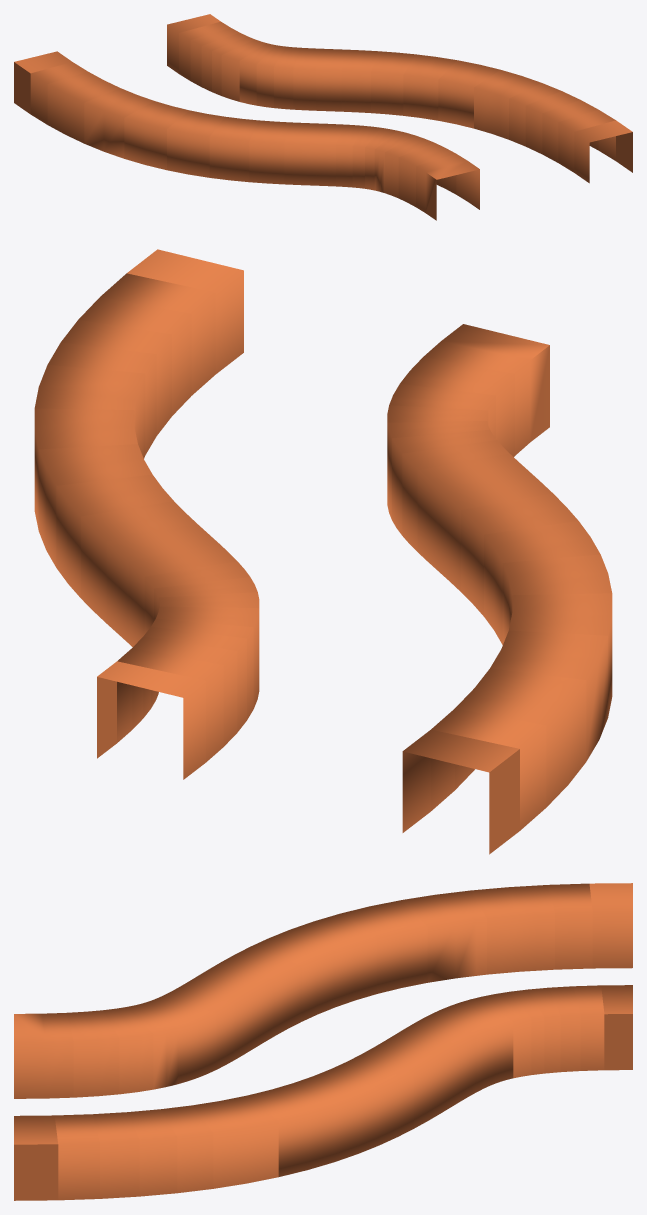
Rendered from LScurveSand.fbx.
3 views of the same model, one above another, from view 1: azimuth 30°, elevation 25°; view 2: azimuth 150°, elevation 25°; view 3: azimuth 270°, elevation 25° (orthographic). The views are drawn at different scales.
Visible parts, largest first — view 1: sand.013, sand.014, sand.015, sand.012, sand.011, sand.001, sand.033, sand.032, sand.031, sand.010, sand.030, sand.038 (+26 smaller); view 2: sand.015, sand.017, sand.001, sand.014, sand.016, sand.018, sand.030, sand.038, sand.031, sand.011, sand.033, sand.029 (+26 smaller); view 3: sand.015, sand.033, sand.014, sand.001, sand.032, sand.013, sand.031, sand.012, sand.002, sand.038, sand.017, sand.037 (+26 smaller).
Boxes of the visible parts, x1,y1,x2,y2 form: sand.013: (124, 101, 189, 170); sand.014: (84, 88, 153, 158); sand.015: (47, 71, 119, 143); sand.012: (167, 110, 224, 177); sand.011: (209, 116, 258, 182); sand.001: (416, 153, 479, 220); sand.033: (474, 70, 541, 139); sand.032: (438, 60, 500, 128); sand.031: (403, 54, 456, 120); sand.010: (249, 120, 289, 184); sand.030: (371, 51, 415, 115); sand.038: (574, 120, 632, 183); sand.015: (455, 668, 586, 807); sand.017: (402, 729, 519, 854); sand.001: (423, 324, 549, 455); sand.014: (490, 630, 607, 761); sand.016: (431, 708, 546, 830); sand.018: (97, 661, 205, 779); sand.030: (56, 474, 173, 597); sand.038: (127, 249, 243, 374); sand.031: (38, 444, 152, 567); sand.011: (484, 521, 600, 644); sand.033: (34, 365, 145, 458); sand.029: (81, 501, 196, 623); sand.015: (470, 885, 554, 974); sand.033: (192, 1095, 278, 1188); sand.014: (401, 890, 486, 982); sand.001: (14, 1013, 73, 1098); sand.032: (247, 1083, 334, 1176); sand.013: (340, 900, 427, 993); sand.031: (293, 1069, 379, 1161); sand.012: (290, 913, 376, 1007); sand.002: (66, 1010, 119, 1097); sand.038: (14, 1115, 58, 1200); sand.017: (589, 883, 632, 968); sand.037: (54, 1114, 99, 1200).
Size of the model in its own units: 2000 by 200 by 2000.
